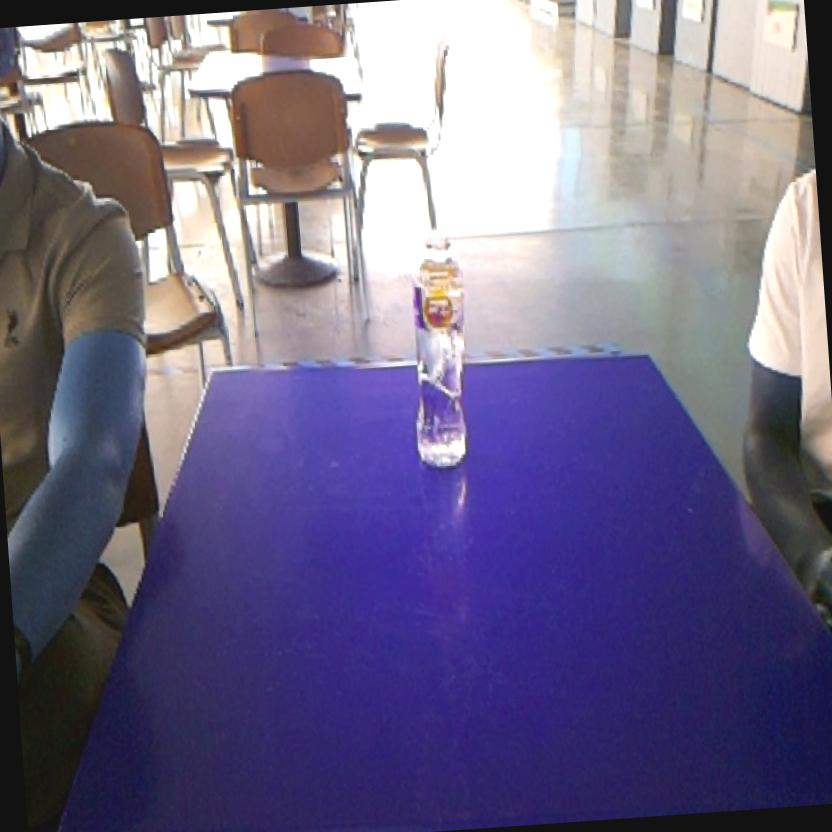no_cap: (396, 219, 487, 477)
